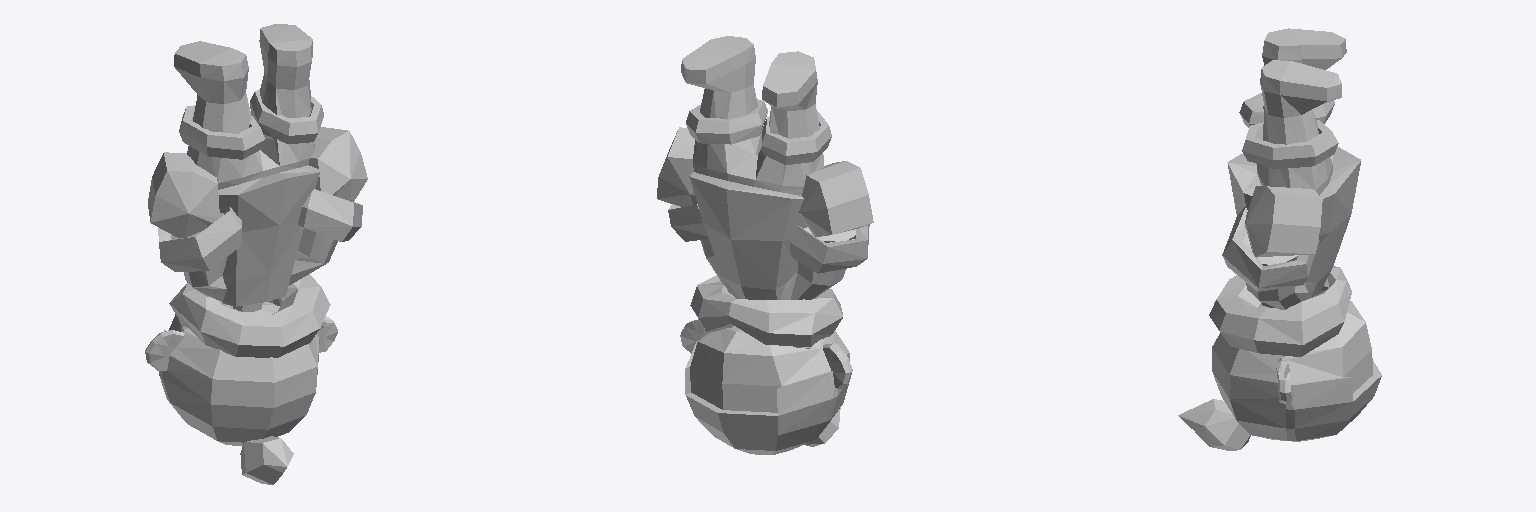
The model's file is eikastanding_000006.obj.
3 views of the same model, side by side, from view 1: azimuth 30°, elevation 25°; view 2: azimuth 150°, elevation 25°; view 3: azimuth 270°, elevation 25° (orthographic).
Parts seen in each view (by area): view 1: Cylinder; view 2: Cylinder; view 3: Cylinder.
Part boxes in pixels (x1,y1,x2,y2): Cylinder: (145,24,367,484); Cylinder: (657,36,873,454); Cylinder: (1178,28,1381,450).
Bounding box in the file's own units: 29.42 × 54.45 × 24.64.